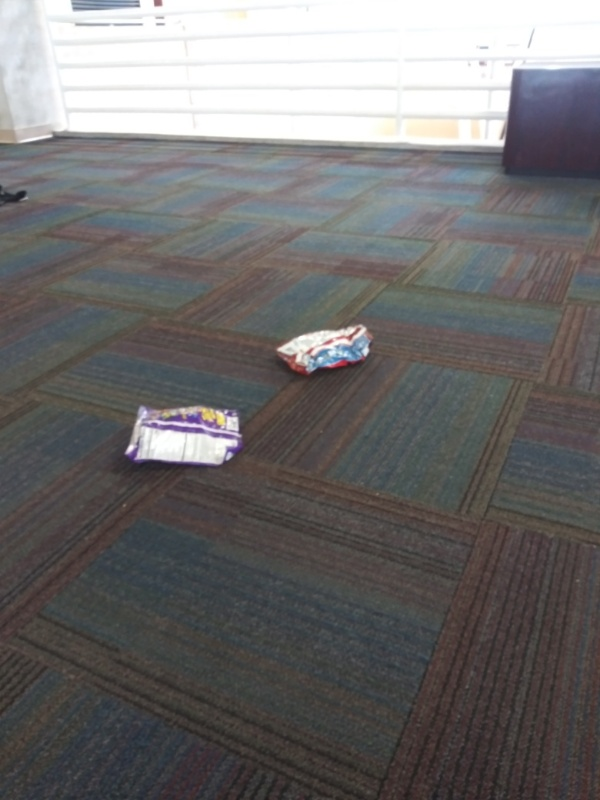bag: (111, 397, 252, 473), (269, 322, 377, 382)
